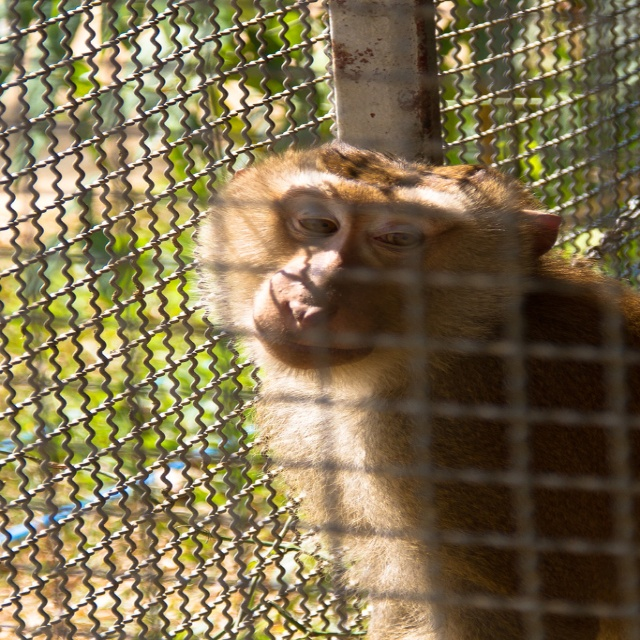Monkey: (177, 152, 624, 636)
